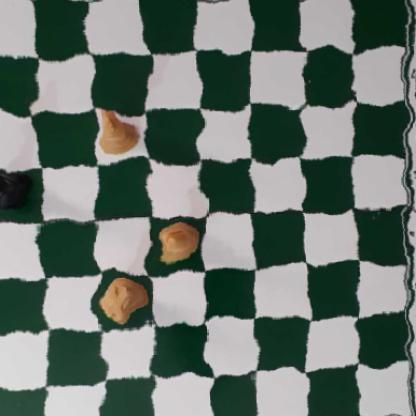black-king: (0, 166, 36, 218)
white-bishop: (152, 221, 207, 268)
white-king: (98, 102, 141, 156)
white-rook: (103, 277, 148, 322)
